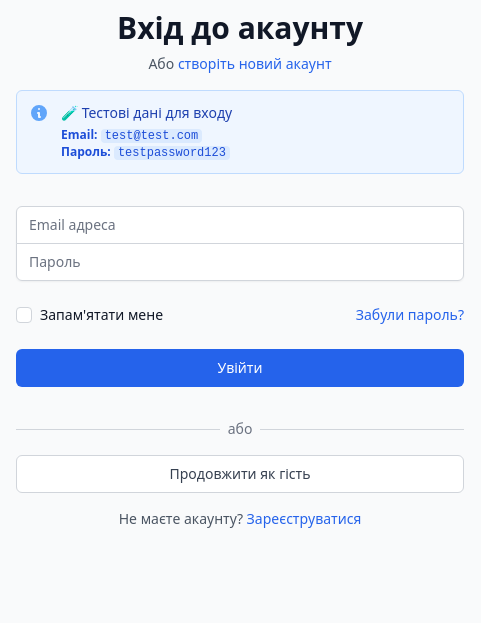
Test: LoginPage Component › Form Submission › shows error message when login fails
The image size is (481, 623).
Type "test@test.com" into the field labelled "Email адреса". click: (240, 225)
box: [16,206,464,244]
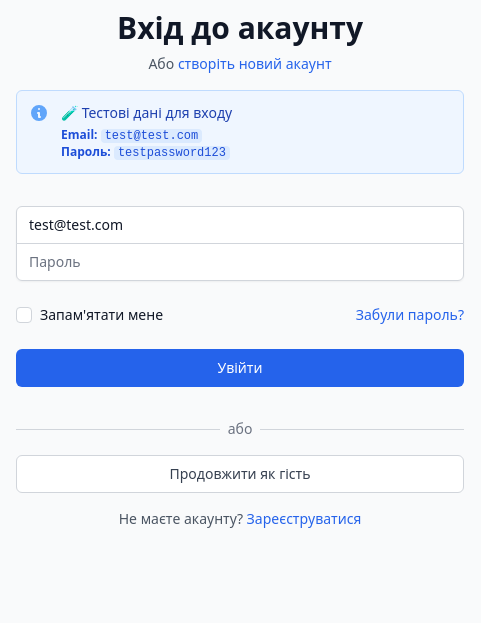
Type "password123" into the password field labelled "Пароль". click: (240, 262)
box: [16,243,464,281]
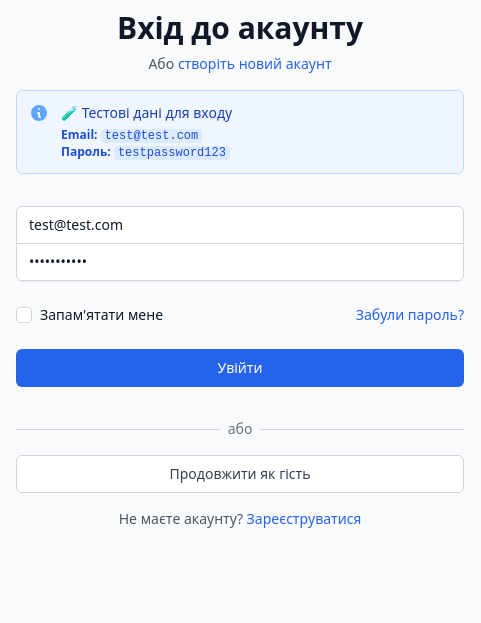
Click the button "Увійти". click: (240, 368)
box: [16,349,464,387]
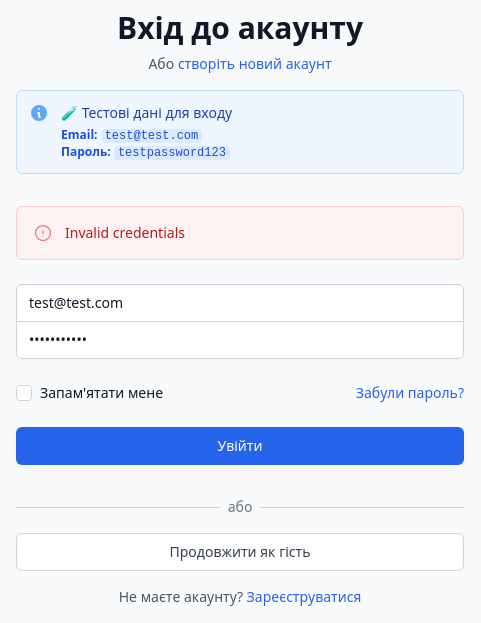
Now the text "Invalid credentials" is shown, box [65,223,185,243]
